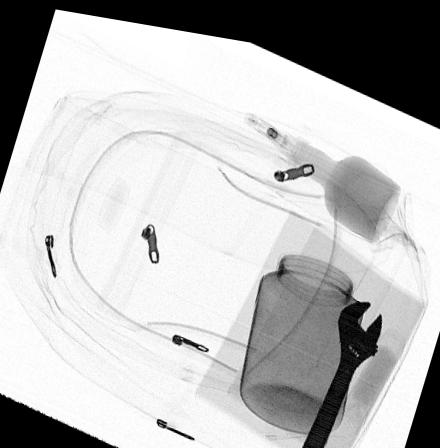Wrench: (298, 288, 383, 448)
